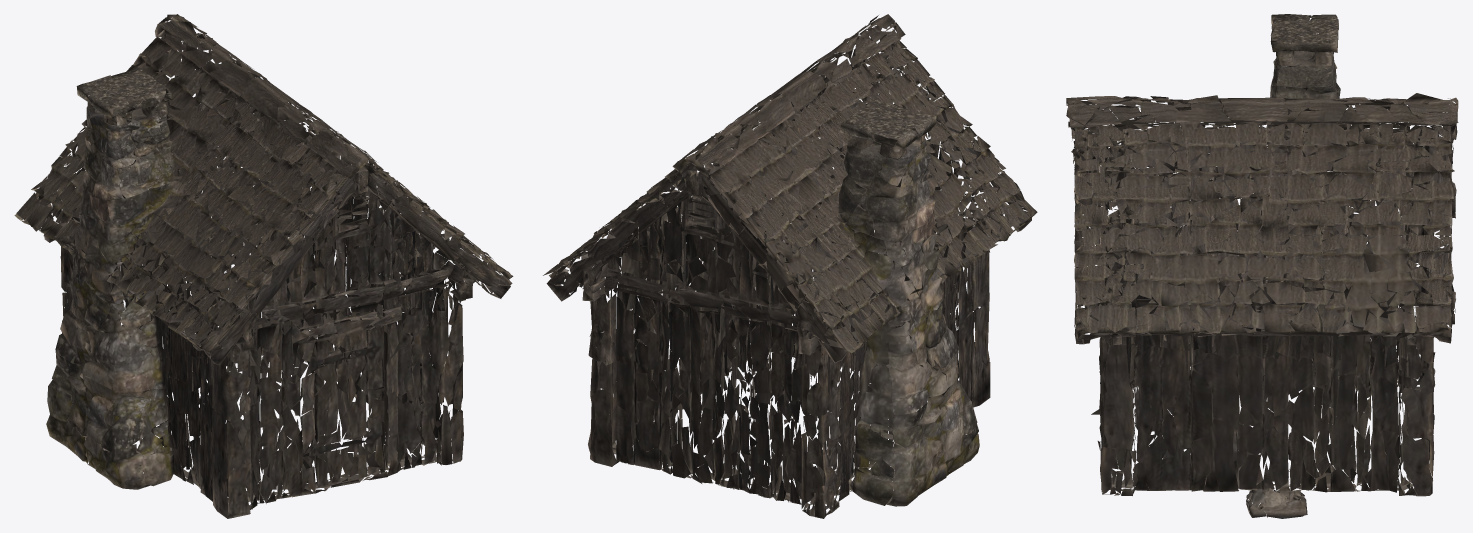
File: wedzarnia.glb
3 renders of one model, left to right at view 1: azimuth 30°, elevation 25°; view 2: azimuth 150°, elevation 25°; view 3: azimuth 270°, elevation 25°, orthographic.
Visible parts, largest first — view 1: Mesh_0; view 2: Mesh_0; view 3: Mesh_0.
Part boxes in pixels (bbox=[...]): Mesh_0: bbox=[14, 14, 513, 518]; Mesh_0: bbox=[543, 14, 1037, 518]; Mesh_0: bbox=[1066, 14, 1458, 518].
Bounding box in the file's own units: 1.84 × 1.91 × 1.89.
1 material, 1 textured.
